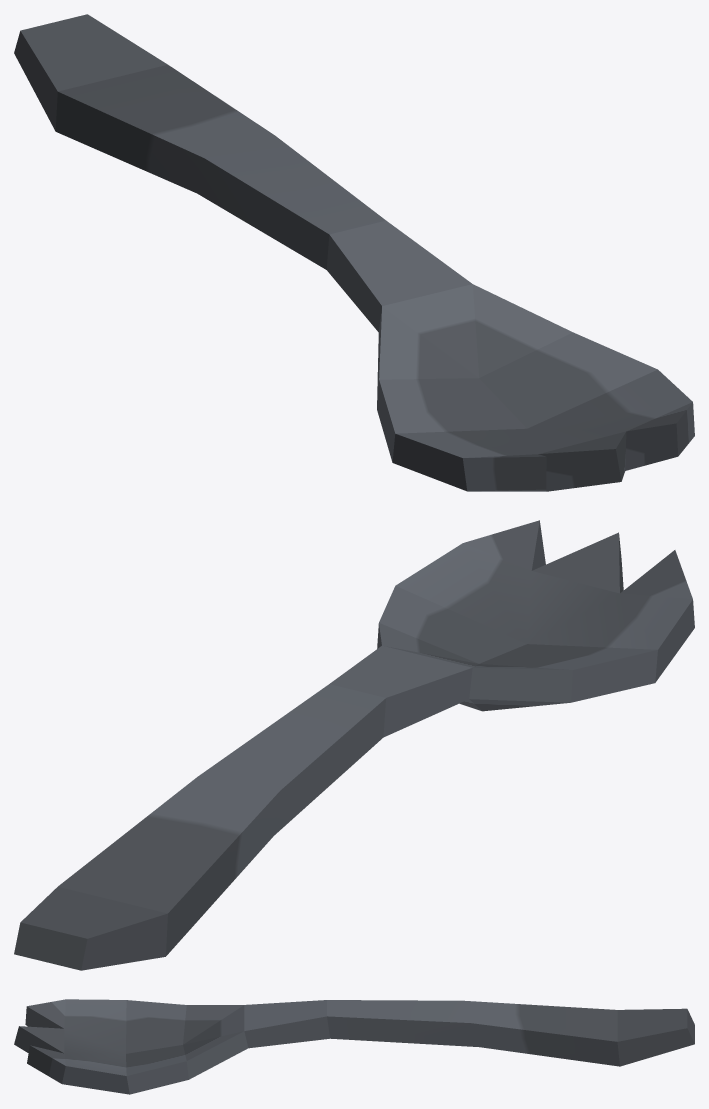
Rendered from SM_Prop_Spork_01.fbx.
3 renders of one model, top to bottom at view 1: azimuth 30°, elevation 25°; view 2: azimuth 150°, elevation 25°; view 3: azimuth 270°, elevation 25°, orthographic. The views are drawn at different scales.
Parts seen in each view (by area): view 1: SM_Prop_Spork_01; view 2: SM_Prop_Spork_01; view 3: SM_Prop_Spork_01.
Boxes of the visible parts, <box> form: SM_Prop_Spork_01: <box>14,14,694,491</box>; SM_Prop_Spork_01: <box>14,520,694,970</box>; SM_Prop_Spork_01: <box>14,999,694,1094</box>.
Size of the model in its own units: 6.95 by 2.83 by 26.31.
